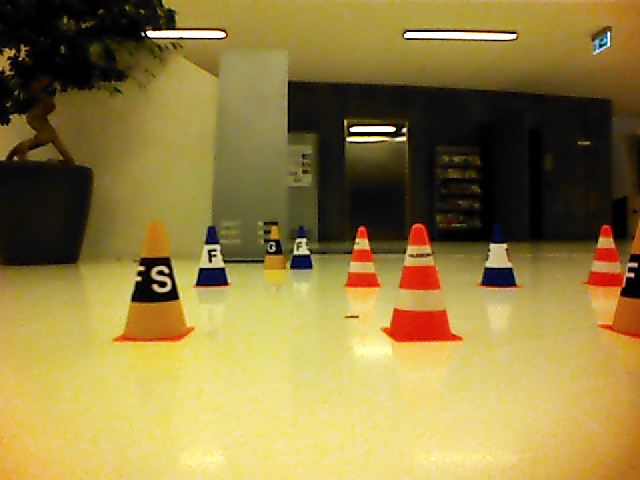bluecone: (481, 224, 519, 285), (196, 226, 230, 288), (289, 225, 314, 269)
orangeconesmall: (390, 221, 453, 338), (347, 224, 381, 286), (590, 223, 624, 285)
yellowcone: (123, 221, 188, 340), (265, 226, 285, 269)
